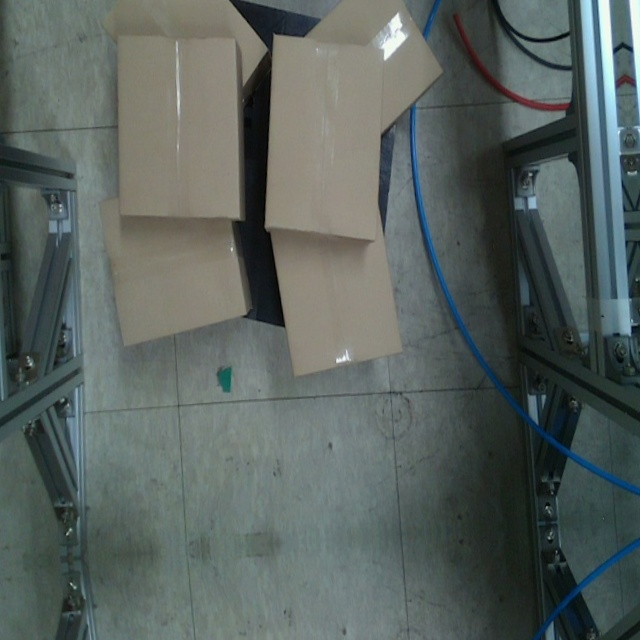box: (265, 33, 381, 237), (116, 37, 241, 224)
